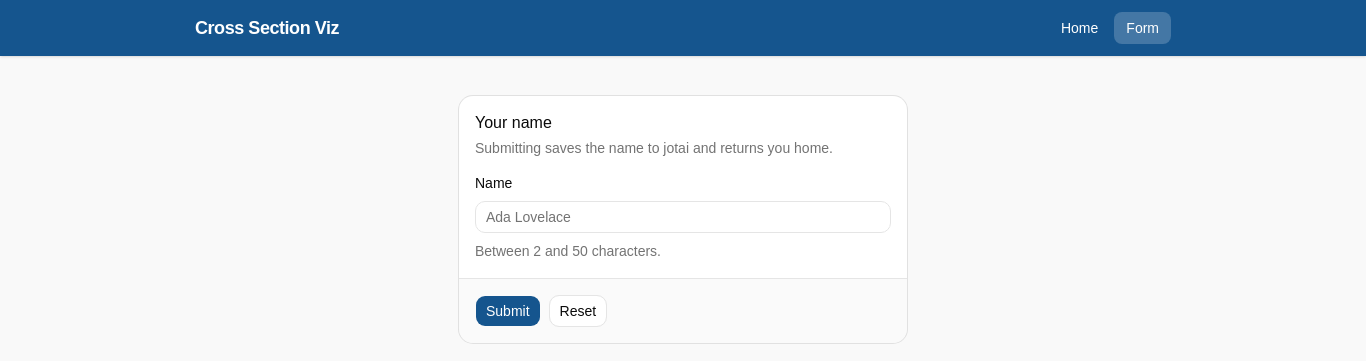
Test: App › shows a validation error for a too-short name
The image size is (1366, 361).
In the field labelled "Name": (683, 217) [475,201,891,233], type "A"
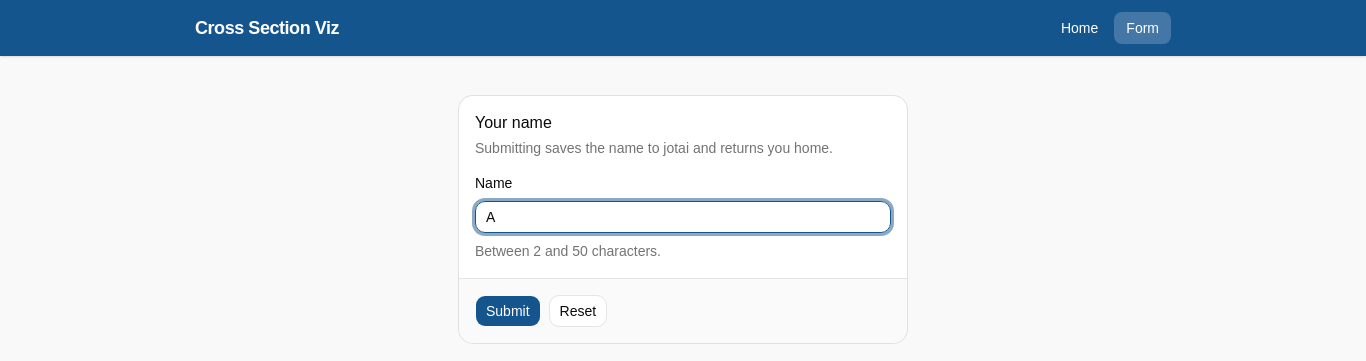
Click the button "Submit": click(508, 311) [475,295,541,327]
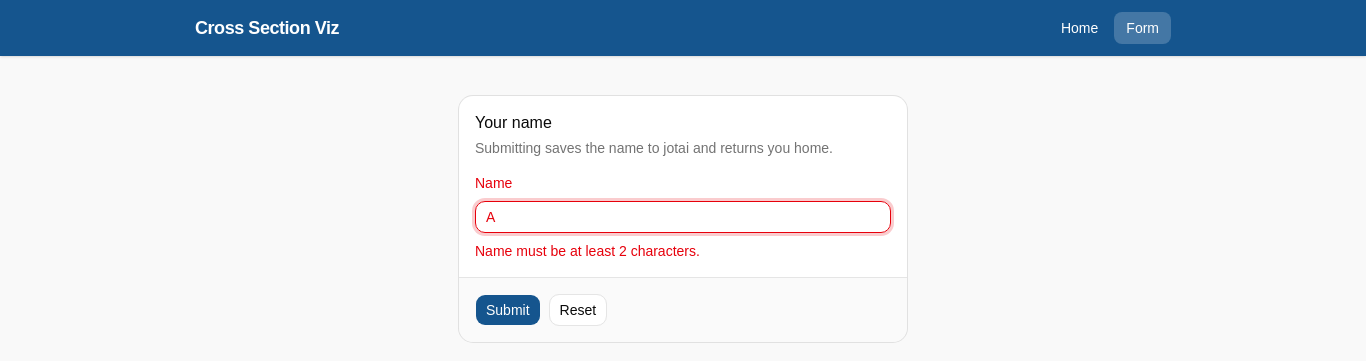
Now the text "Name must be at least 2 characters." is shown, box [475,243,700,259]
